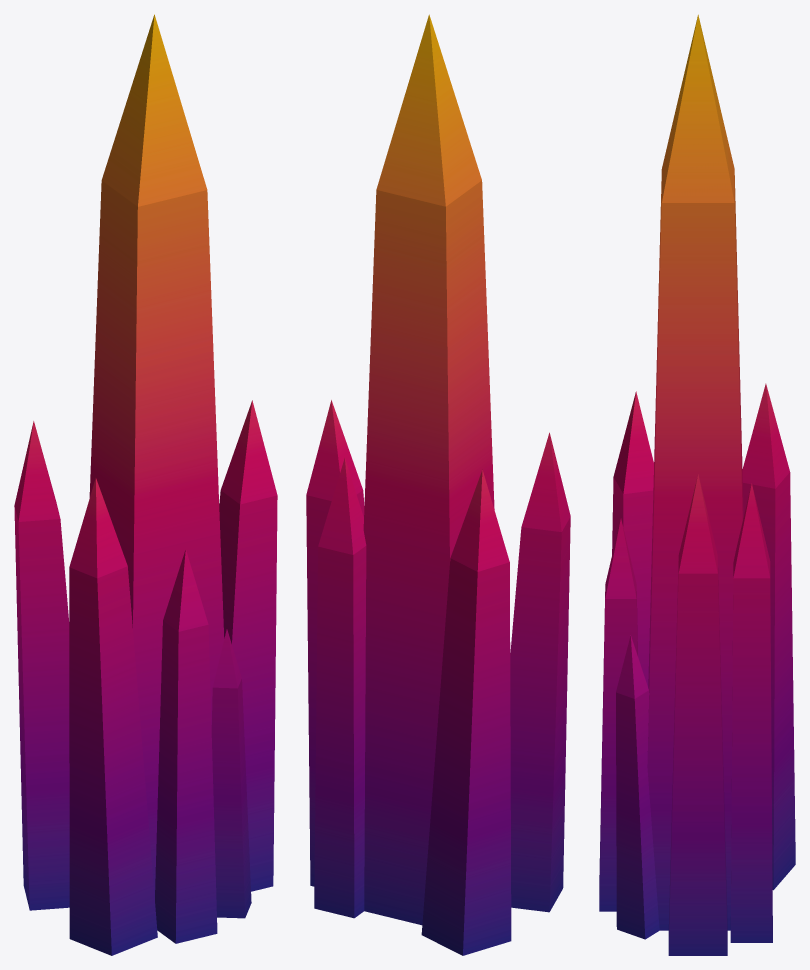
File: cristales12.fbx
The picture shows the model from 3 angles, left to right: view 1: azimuth 30°, elevation 25°; view 2: azimuth 150°, elevation 25°; view 3: azimuth 270°, elevation 25°; orthographic projection.
Visible parts, largest first — view 1: cristal08; view 2: cristal08; view 3: cristal08.
Part boxes in pixels (x1=…): cristal08: x1=14, y1=14, x2=277, y2=955; cristal08: x1=306, y1=14, x2=570, y2=955; cristal08: x1=599, y1=14, x2=795, y2=955.
Size of the model in its own units: 708 by 2699 by 540.
1 material, 1 textured.
